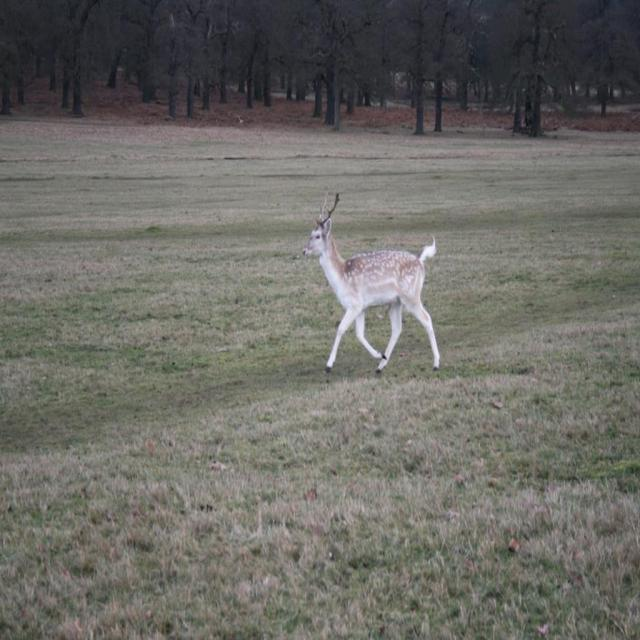Deer: (302, 189, 439, 375)
